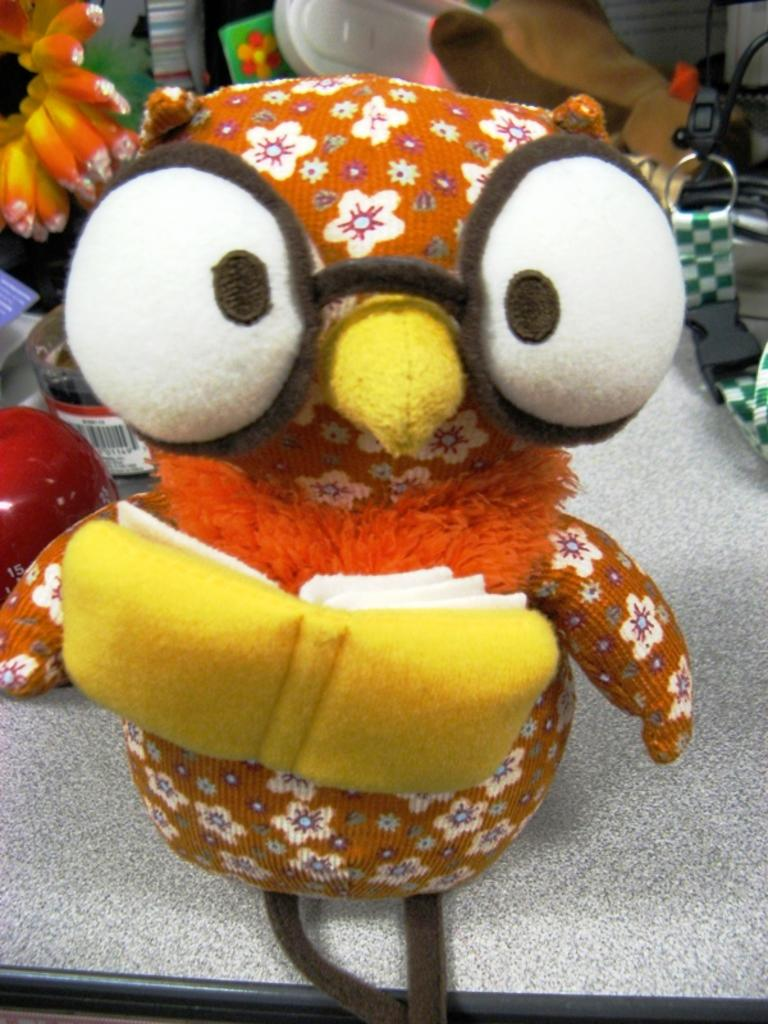Owl: (0, 74, 703, 1022)
